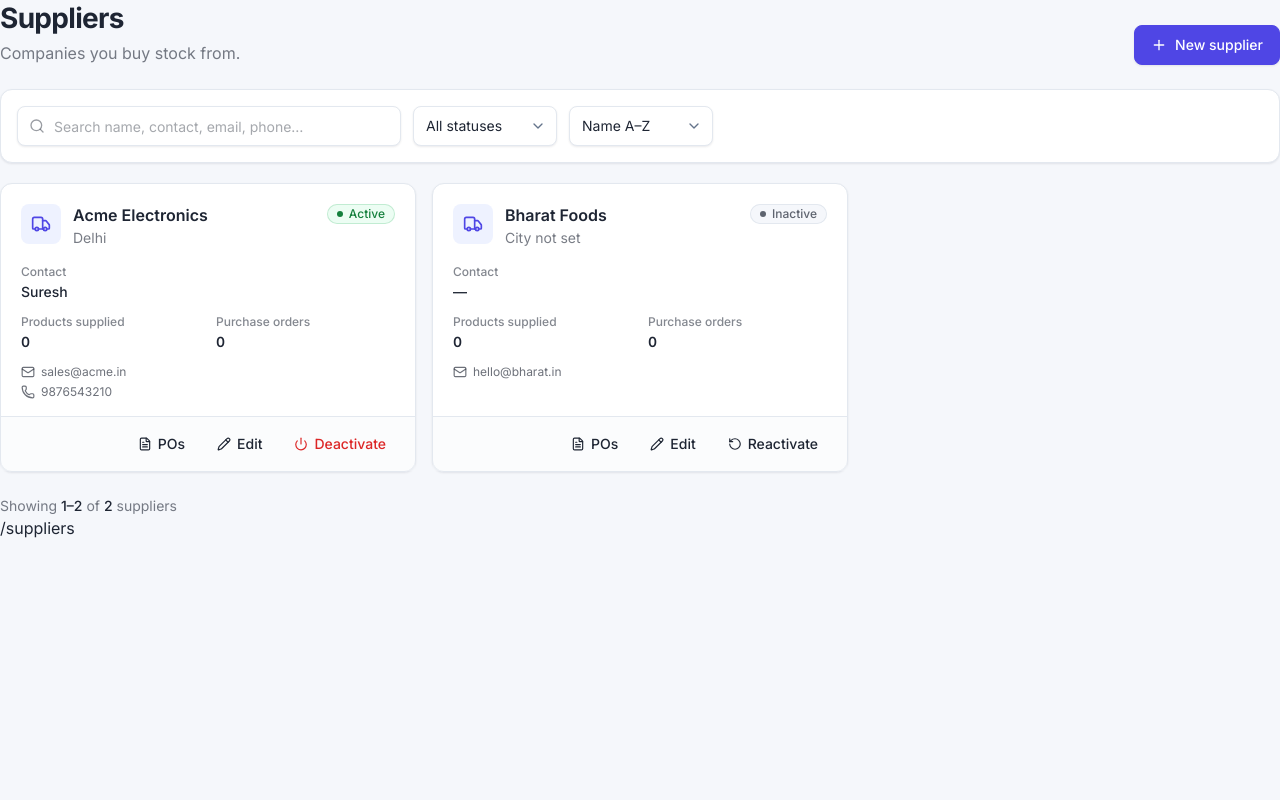
SuppliersPage › edits a supplier (form is pre-filled)
This screenshot has width=1280, height=800.
Expected: the heading "Acme Electronics" is shown, top-left (73, 205), bottom-right (208, 225)
Click the button "Edit" below "9876543210".
click(240, 444)  # box top-left (204, 427), bottom-right (276, 461)
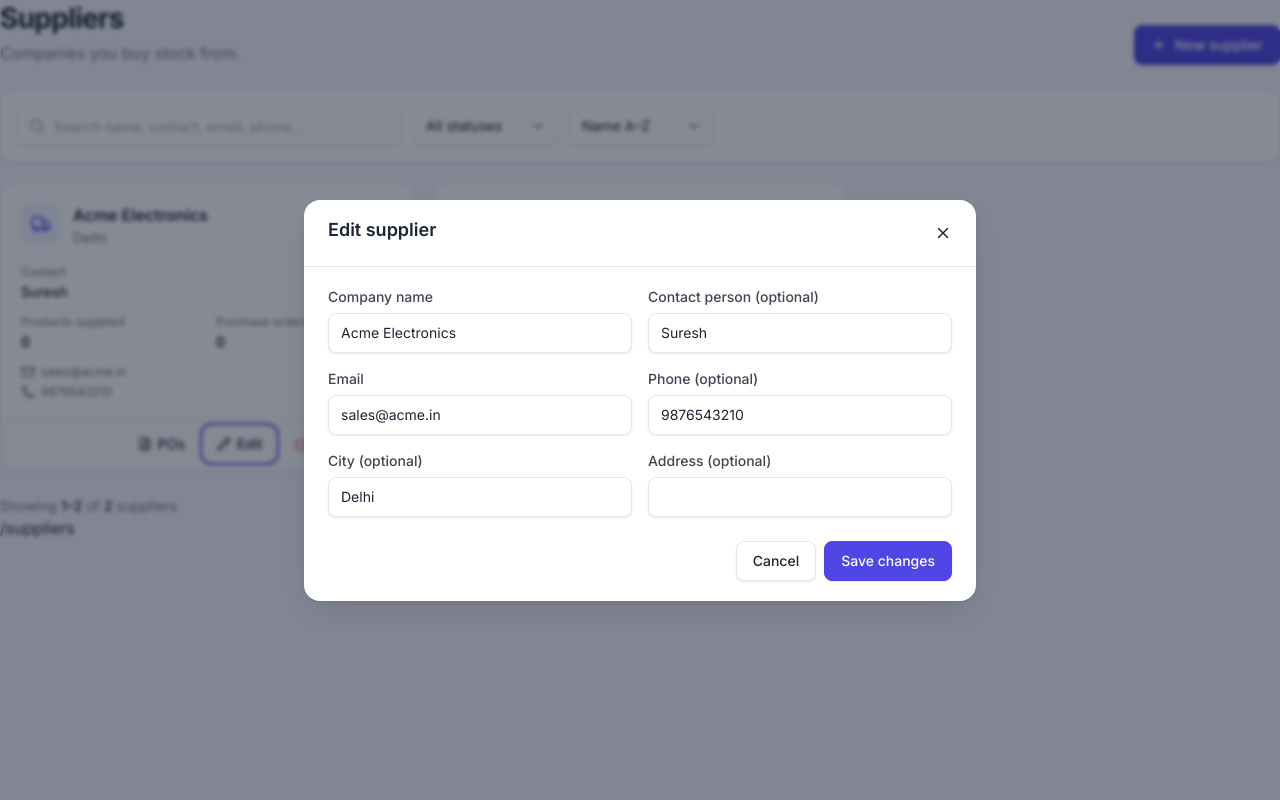
Result: the field labelled "Company name" holds "Acme Electronics" at top-left (328, 312), bottom-right (632, 352)
Result: the field labelled "Phone (optional)" holds "9876543210" at top-left (648, 394), bottom-right (952, 434)
Replace the text in the field labelled "City (optional)" with "Noida" at (480, 496), box top-left (328, 476), bottom-right (632, 516)
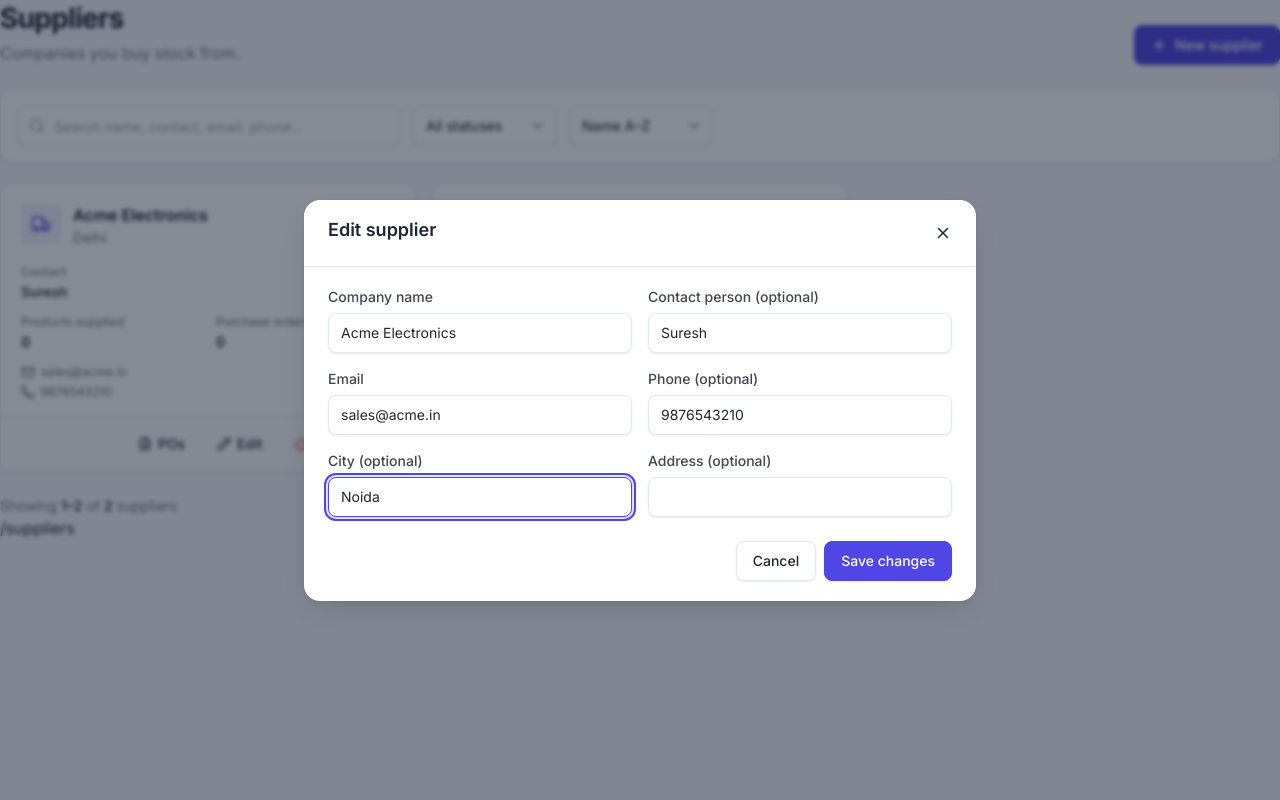
Click the button "Save changes".
click(888, 560)  # box top-left (824, 540), bottom-right (952, 580)
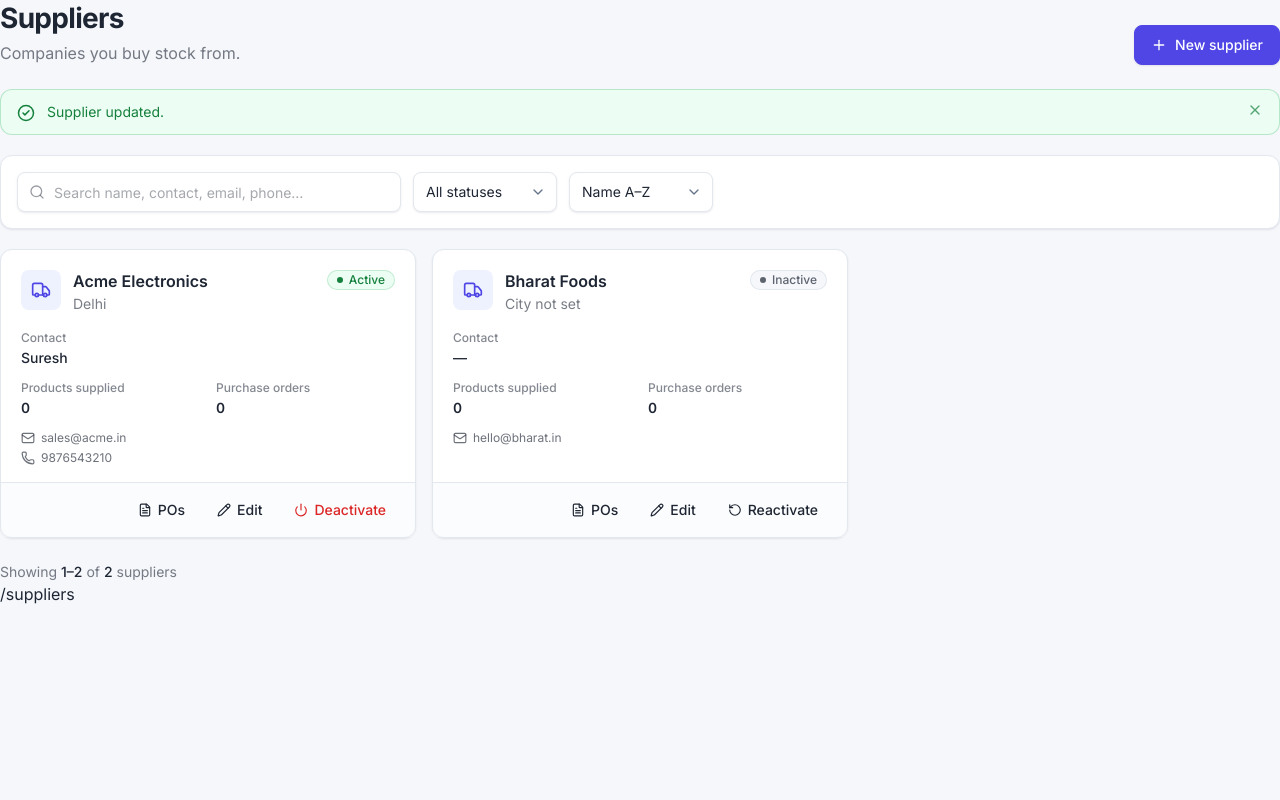
Result: the text "Supplier updated." is shown at top-left (47, 103), bottom-right (164, 120)
